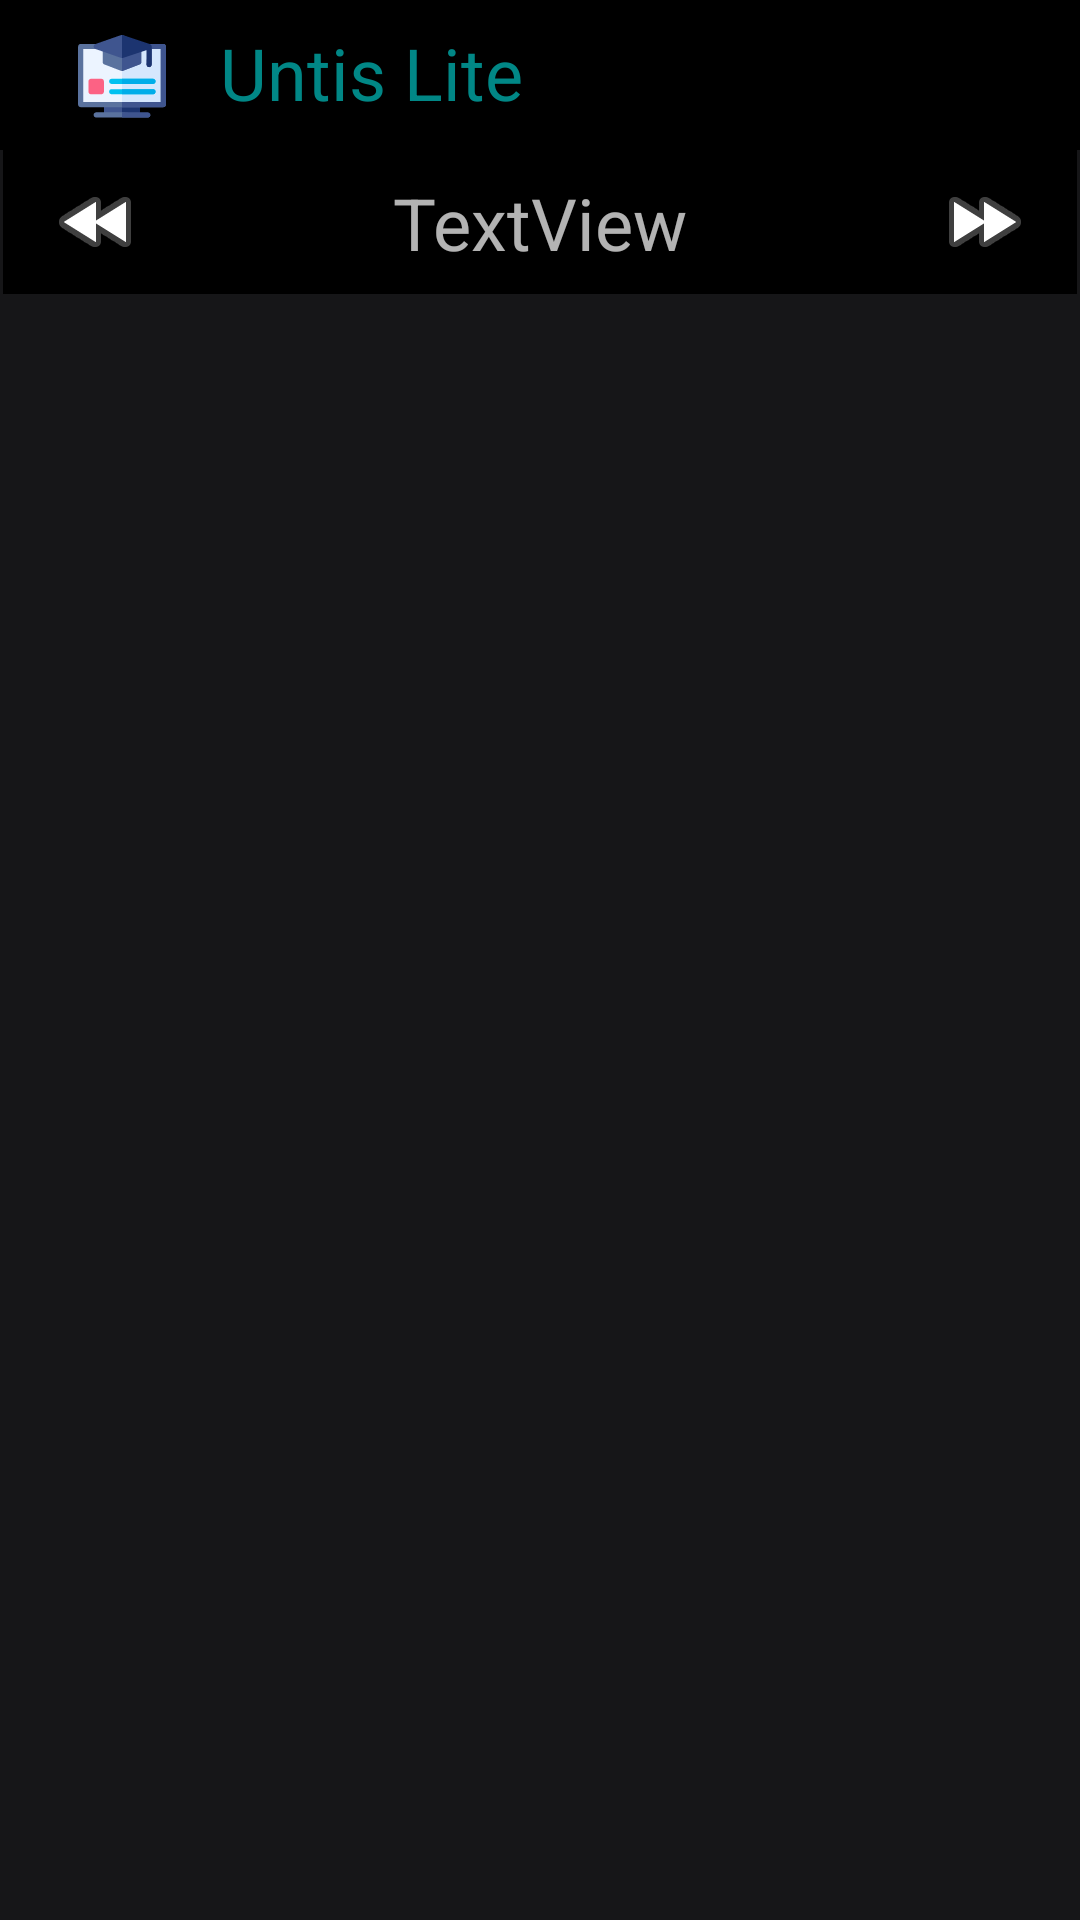

Where to tap for icons on this 1080px x 1920px app screen, as (x=x, y=y):
rew: (x=95, y=222)
